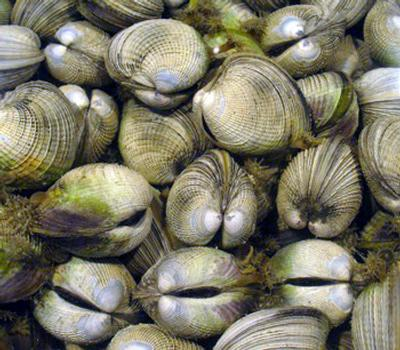cockle: (192, 52, 318, 157), (27, 161, 154, 255), (133, 244, 256, 333), (161, 145, 261, 247), (26, 256, 144, 341), (103, 16, 209, 109), (253, 237, 361, 327), (276, 134, 362, 238), (1, 78, 78, 191), (117, 95, 206, 187), (260, 4, 347, 77), (1, 191, 52, 303), (209, 306, 335, 350), (41, 21, 118, 88), (294, 69, 361, 145), (56, 83, 118, 164), (358, 112, 400, 212), (348, 272, 399, 350), (1, 22, 45, 89), (104, 323, 209, 350), (81, 1, 165, 34), (9, 1, 80, 38), (355, 65, 400, 114)
